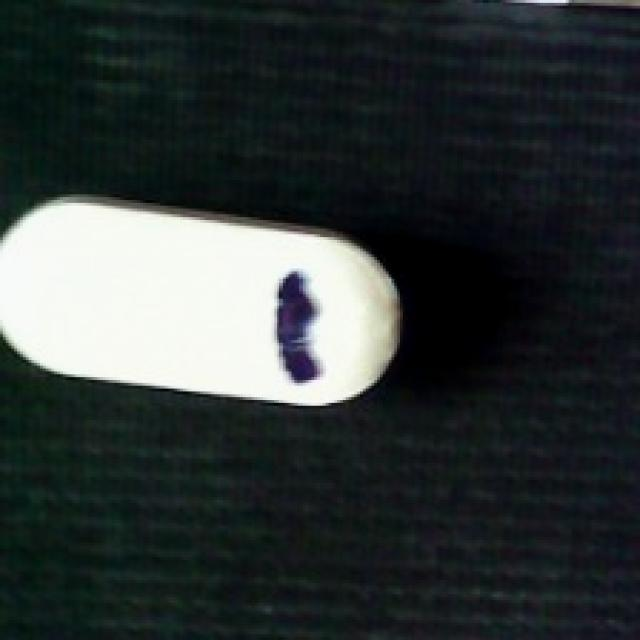defected: (0, 196, 406, 408)
